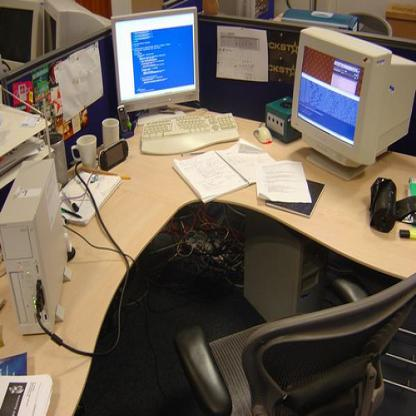chair: (174, 273, 415, 415)
tvmonitor: (290, 25, 416, 178), (111, 6, 199, 128), (42, 0, 112, 58), (0, 0, 45, 71)
